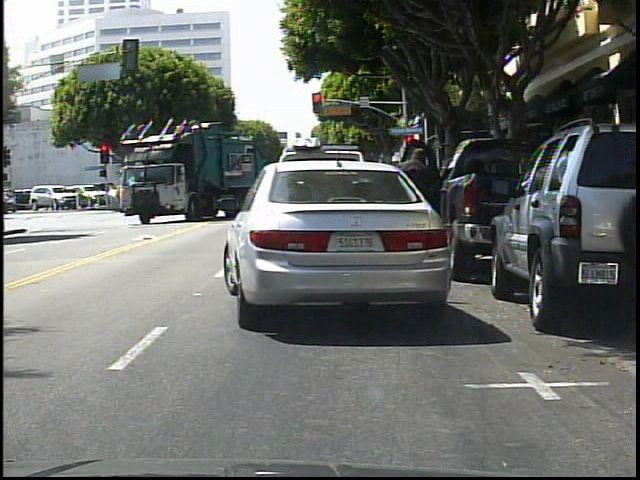person: (389, 144, 448, 278)
